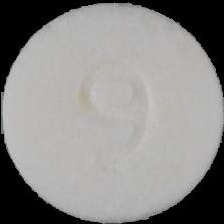0071-0419: (0, 0, 224, 224)
